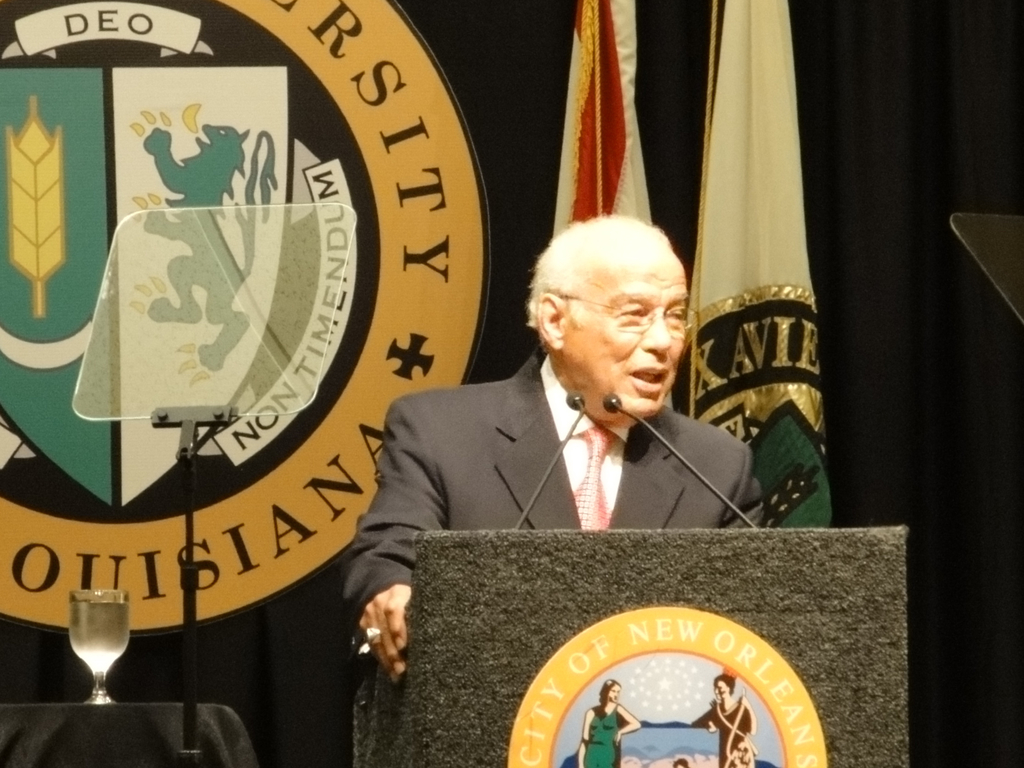Person: (335, 212, 764, 683)
